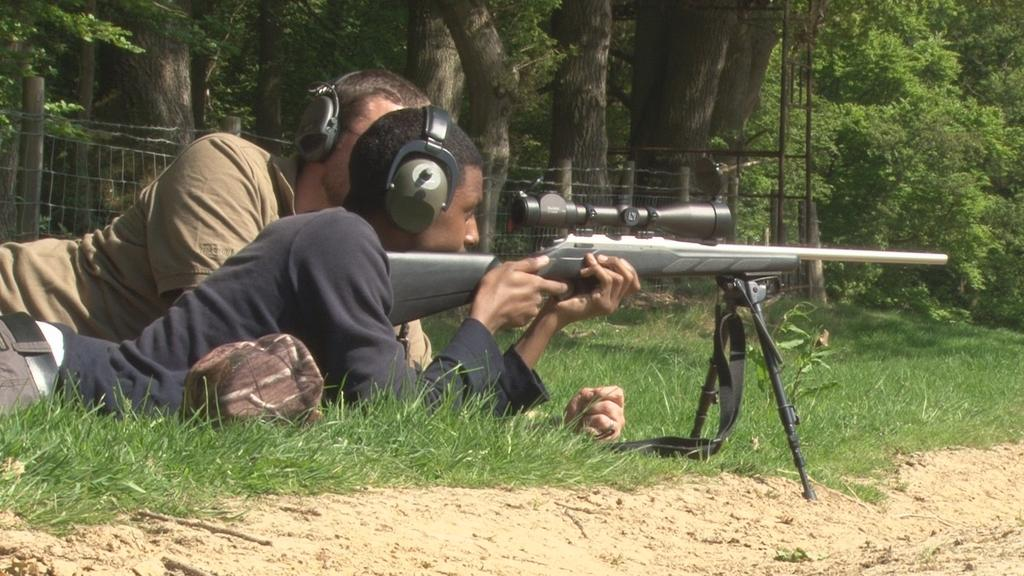Rifle: (390, 181, 950, 496)
